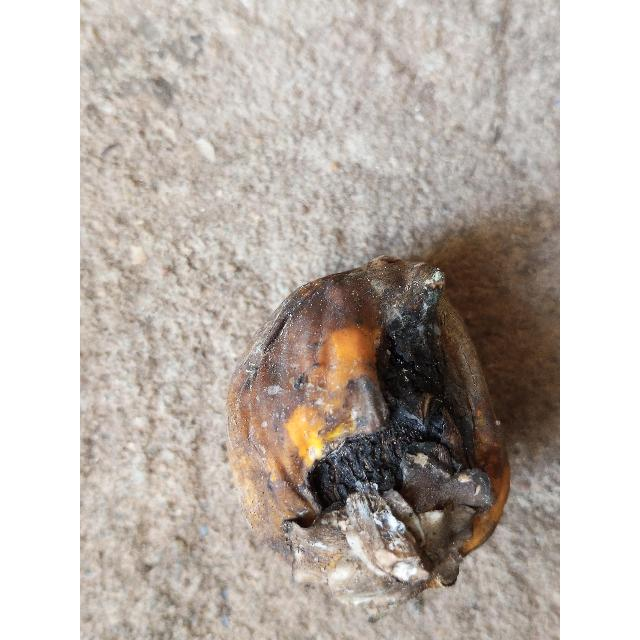damaged: (226, 256, 512, 602)
